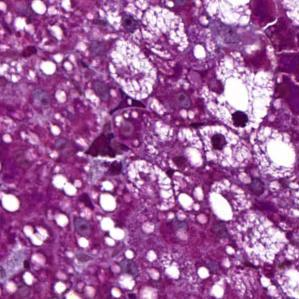ballooning: (209, 178, 290, 268), (200, 52, 276, 134), (104, 39, 160, 102), (138, 7, 190, 60)
